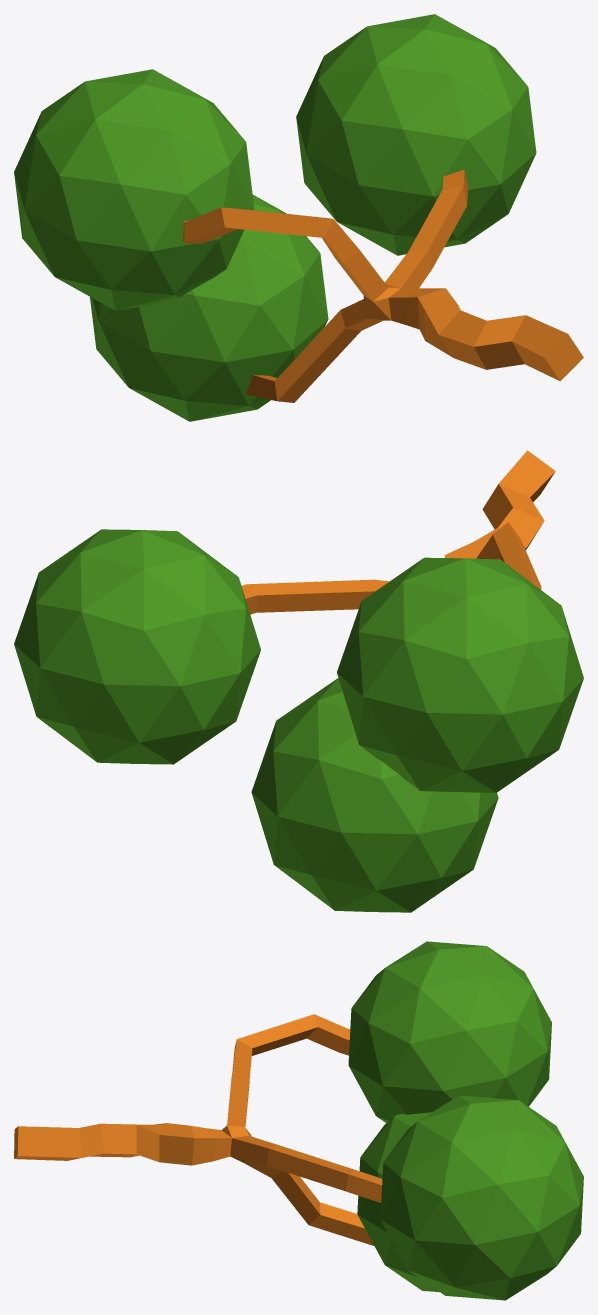
The model's file is tree2.fbx.
3 views of the same model, one above another, from view 1: azimuth 30°, elevation 25°; view 2: azimuth 150°, elevation 25°; view 3: azimuth 270°, elevation 25° (orthographic). The views are drawn at different scales.
Visible parts, largest first — view 1: Cube; view 2: Cube; view 3: Cube.
Boxes of the visible parts, x1=… form: Cube: x1=14, y1=14, x2=583, y2=421; Cube: x1=14, y1=450, x2=583, y2=912; Cube: x1=14, y1=941, x2=583, y2=1300.
Size of the model in its own units: 343 by 227 by 384.
